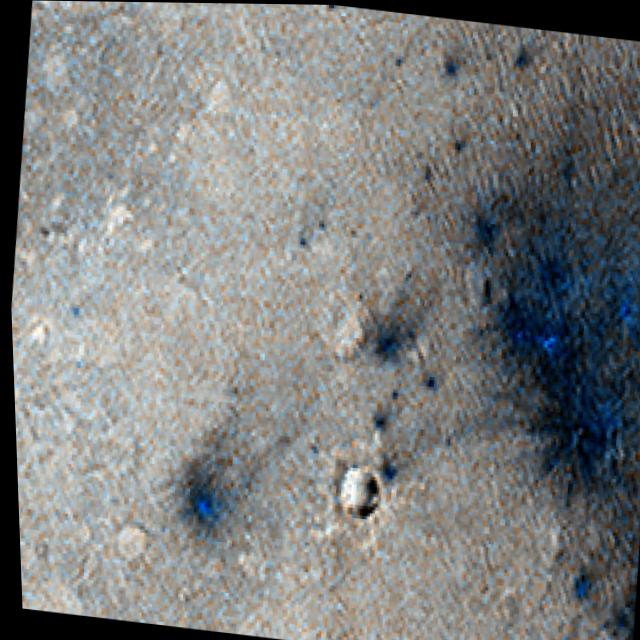Crater: (318, 444, 385, 537)
